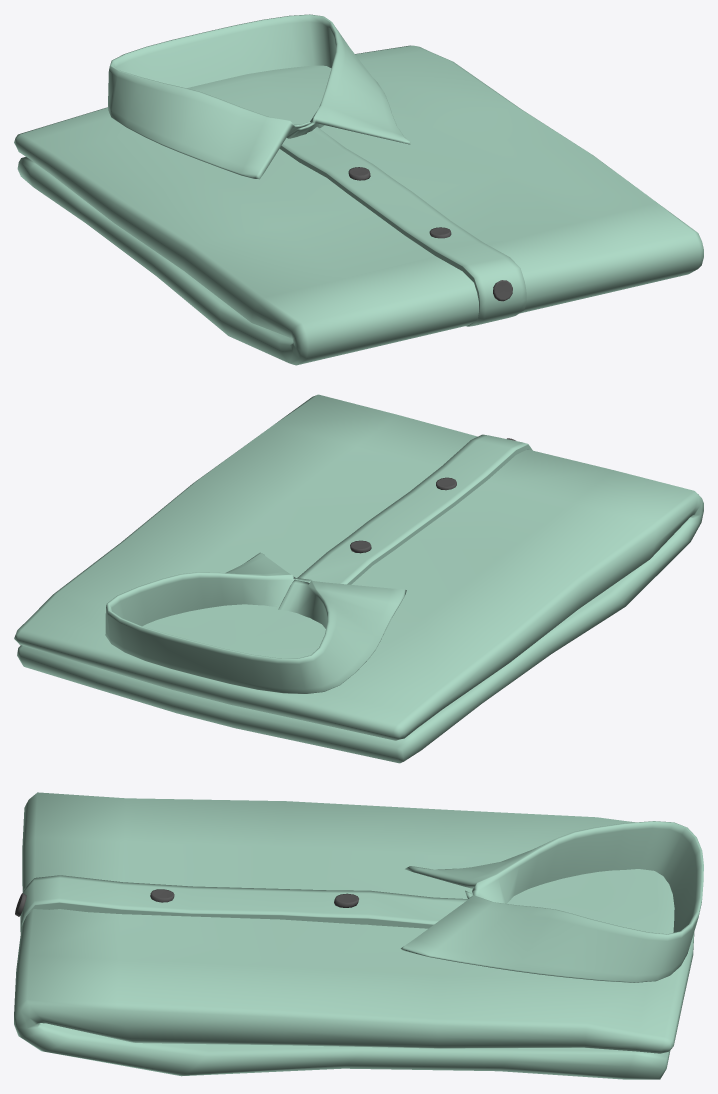
The model's file is Folded_Shirt26.fbx.
3 views of the same model, one above another, from view 1: azimuth 30°, elevation 25°; view 2: azimuth 150°, elevation 25°; view 3: azimuth 270°, elevation 25° (orthographic). The views are drawn at different scales.
Parts seen in each view (by area): view 1: Folded_Shirt26; view 2: Folded_Shirt26; view 3: Folded_Shirt26.
Part boxes in pixels (x1,y1,x2,y2): Folded_Shirt26: (14, 14, 703, 365); Folded_Shirt26: (14, 394, 703, 763); Folded_Shirt26: (14, 792, 703, 1079).
Bounding box in the file's own units: 25.09 × 5.51 × 33.3.
